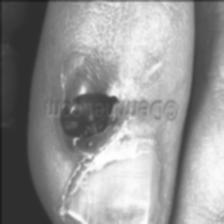Toxin: (60, 88, 120, 150)
